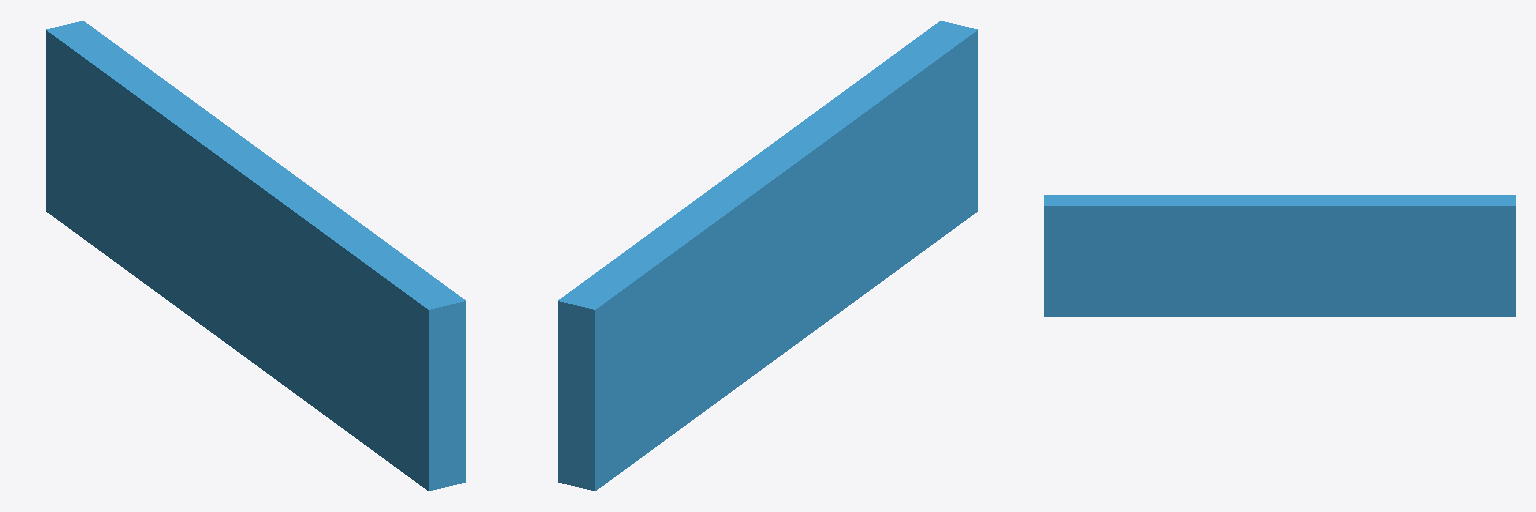
URDF robot description (box_27):
<?xml version="1.0" encoding="utf-8"?>    
    
    <robot name="box_27">
        <link name="box_27">    
            <fem>
                <origin rpy="0.0 0.0 0.0" xyz="0 0 0" />
                <density value="100" />
                <youngs value="6076"/>
                <poissons value="0.3"/>
                <damping value="0.0" /> 
                <attachDistance value="0.01"/>
                <tetmesh filename="../../../../Custom_mesh/physical_dvrk/multi_box_5kPa/box_27.tet"/>
                <scale value="1.0"/>
            </fem>
        </link>
        
        <link name="fix_frame">
            <visual>
                <origin xyz="-10.098 0.0 0.0"/>              
                <geometry>
                    <box size="0.005 0.088 0.023"/>
                </geometry>
            </visual>
            <collision>
                <origin xyz="-0.098 0.0 0.0"/>              
                <geometry>
                    <box size="0.005 0.088 0.023"/>
                </geometry>
            </collision>
            <inertial>
                <mass value="500000"/>
                <inertia ixx="0.05" ixy="0.0" ixz="0.0" iyy="0.05" iyz="0.0" izz="0.05"/>
            </inertial>
        </link>
        
        <joint name = "attach" type = "fixed">
            <origin xyz = "0.0 0.0 0.0" rpy = "0 0 0"/>
            <parent link = "box_27"/>
            <child link = "fix_frame"/>
        </joint>  
        
    </robot>
    

--- Facts derived from the render (not from the file) ---
The picture shows the robot from 3 angles, left to right: view 1: azimuth 30°, elevation 25°; view 2: azimuth 150°, elevation 25°; view 3: azimuth 270°, elevation 25°; orthographic projection.
Model box_27 with 2 links and 1 joints (1 fixed), rooted at box_27, posed all joints at 0.
Visible links, largest first — view 1: fix_frame; view 2: fix_frame; view 3: fix_frame.
Boxes of the visible links, x1,y1,x2,y2 form: fix_frame: (46, 21, 465, 490); fix_frame: (558, 21, 977, 490); fix_frame: (1044, 195, 1515, 316).
Bounding box of the posed robot: 0.005 × 0.088 × 0.023 m (x, y, z).
Geometry: primitives only (box / cylinder / sphere), no mesh files.